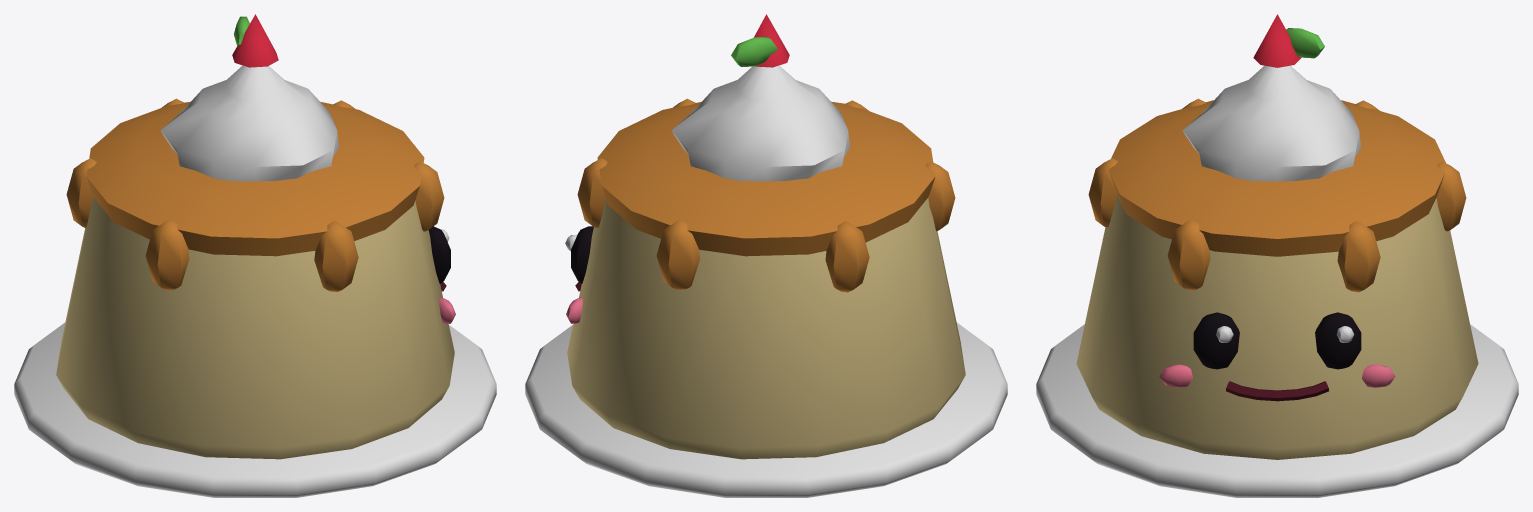
Rendered from pudding.glb.
The picture shows the model from 3 angles, left to right: view 1: azimuth 30°, elevation 25°; view 2: azimuth 150°, elevation 25°; view 3: azimuth 270°, elevation 25°; orthographic projection.
Visible parts, largest first — view 1: pudding; view 2: pudding; view 3: pudding.
Part boxes in pixels (x1,y1,x2,y2): pudding: [14, 14, 496, 497]; pudding: [525, 14, 1007, 497]; pudding: [1036, 14, 1518, 497].
Bounding box in the file's own units: 0.5909 × 0.53 × 0.6.
